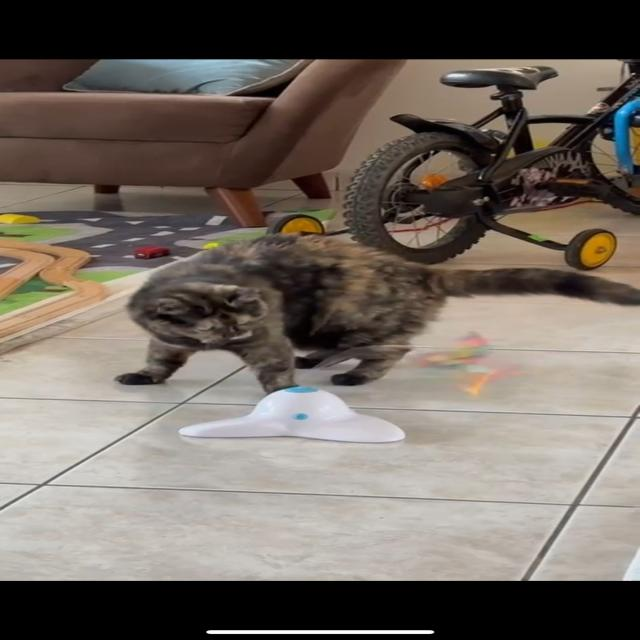authorized: (114, 232, 638, 394)
